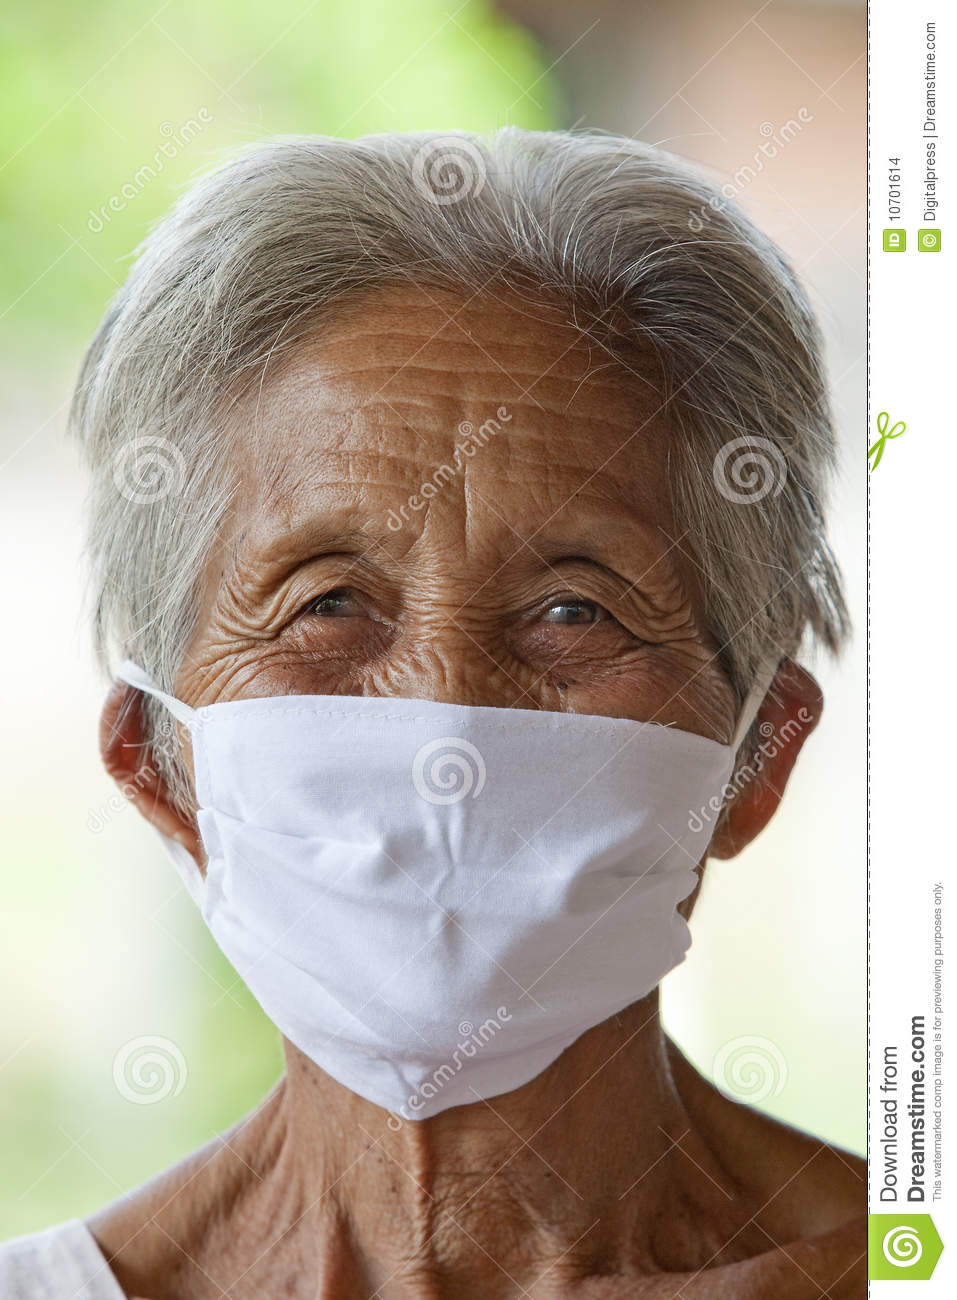mask: (175, 687, 735, 1124)
